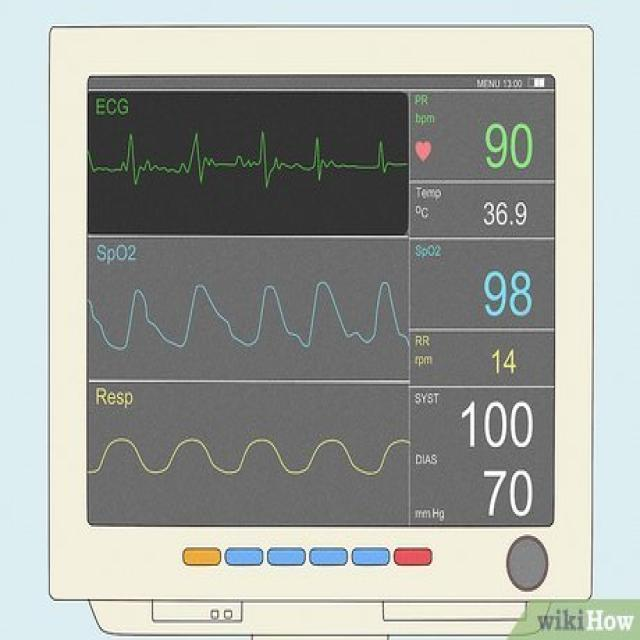Monitor: (48, 24, 596, 635)
